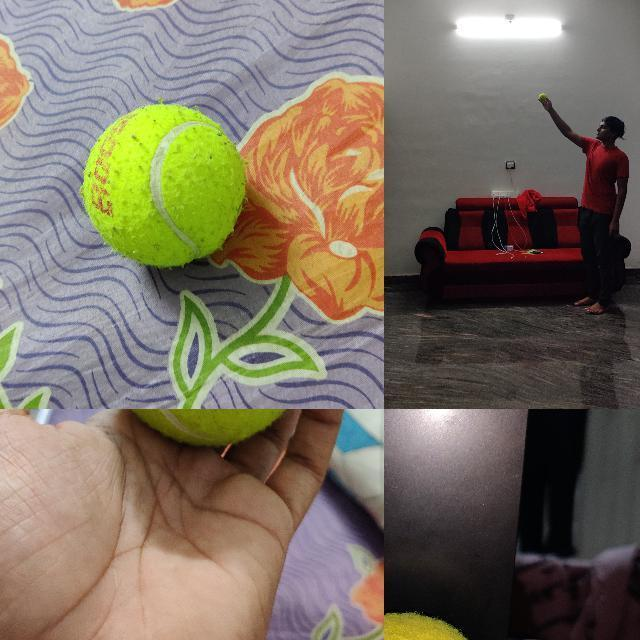tennis-ball: (82, 104, 245, 268), (538, 93, 546, 101)
